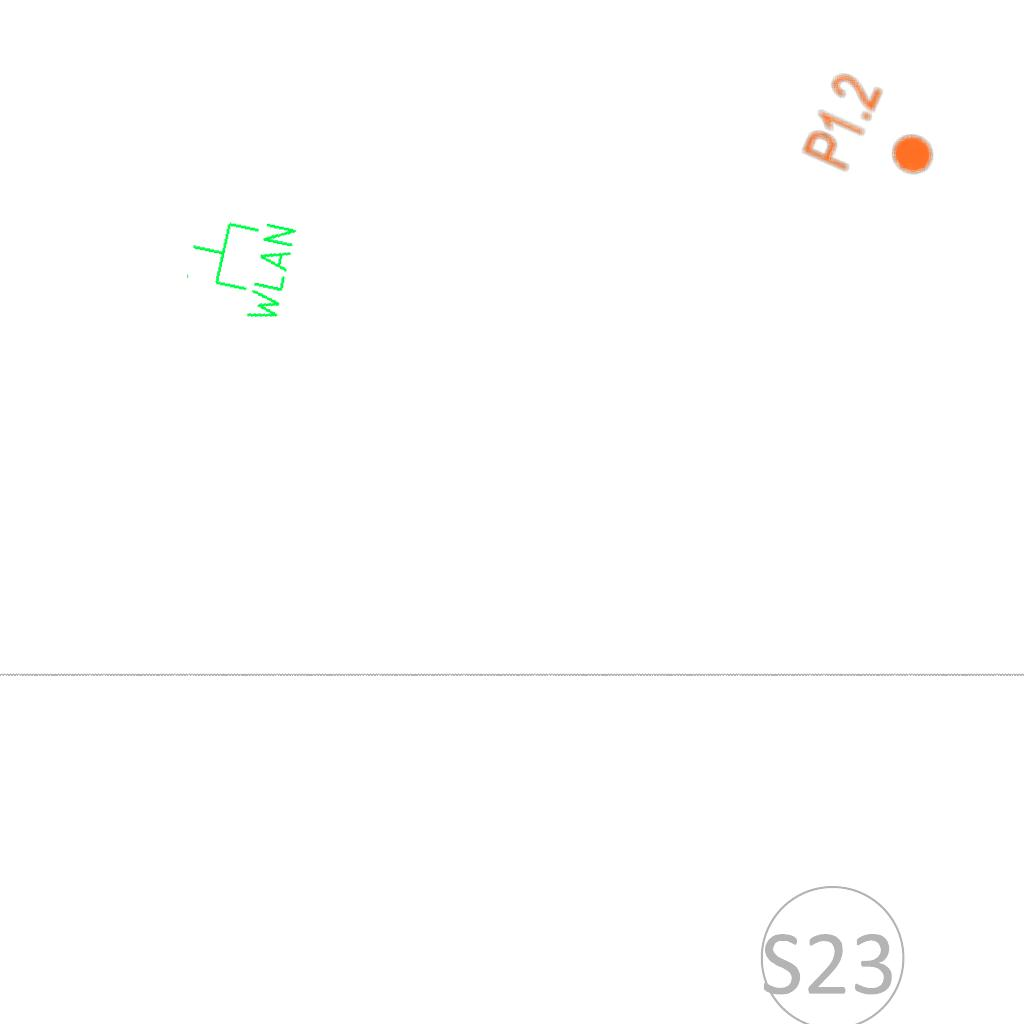Downlight_LED_Einbauleuchten_Flur: (798, 67, 953, 205)
WLAN: (177, 204, 301, 329)
